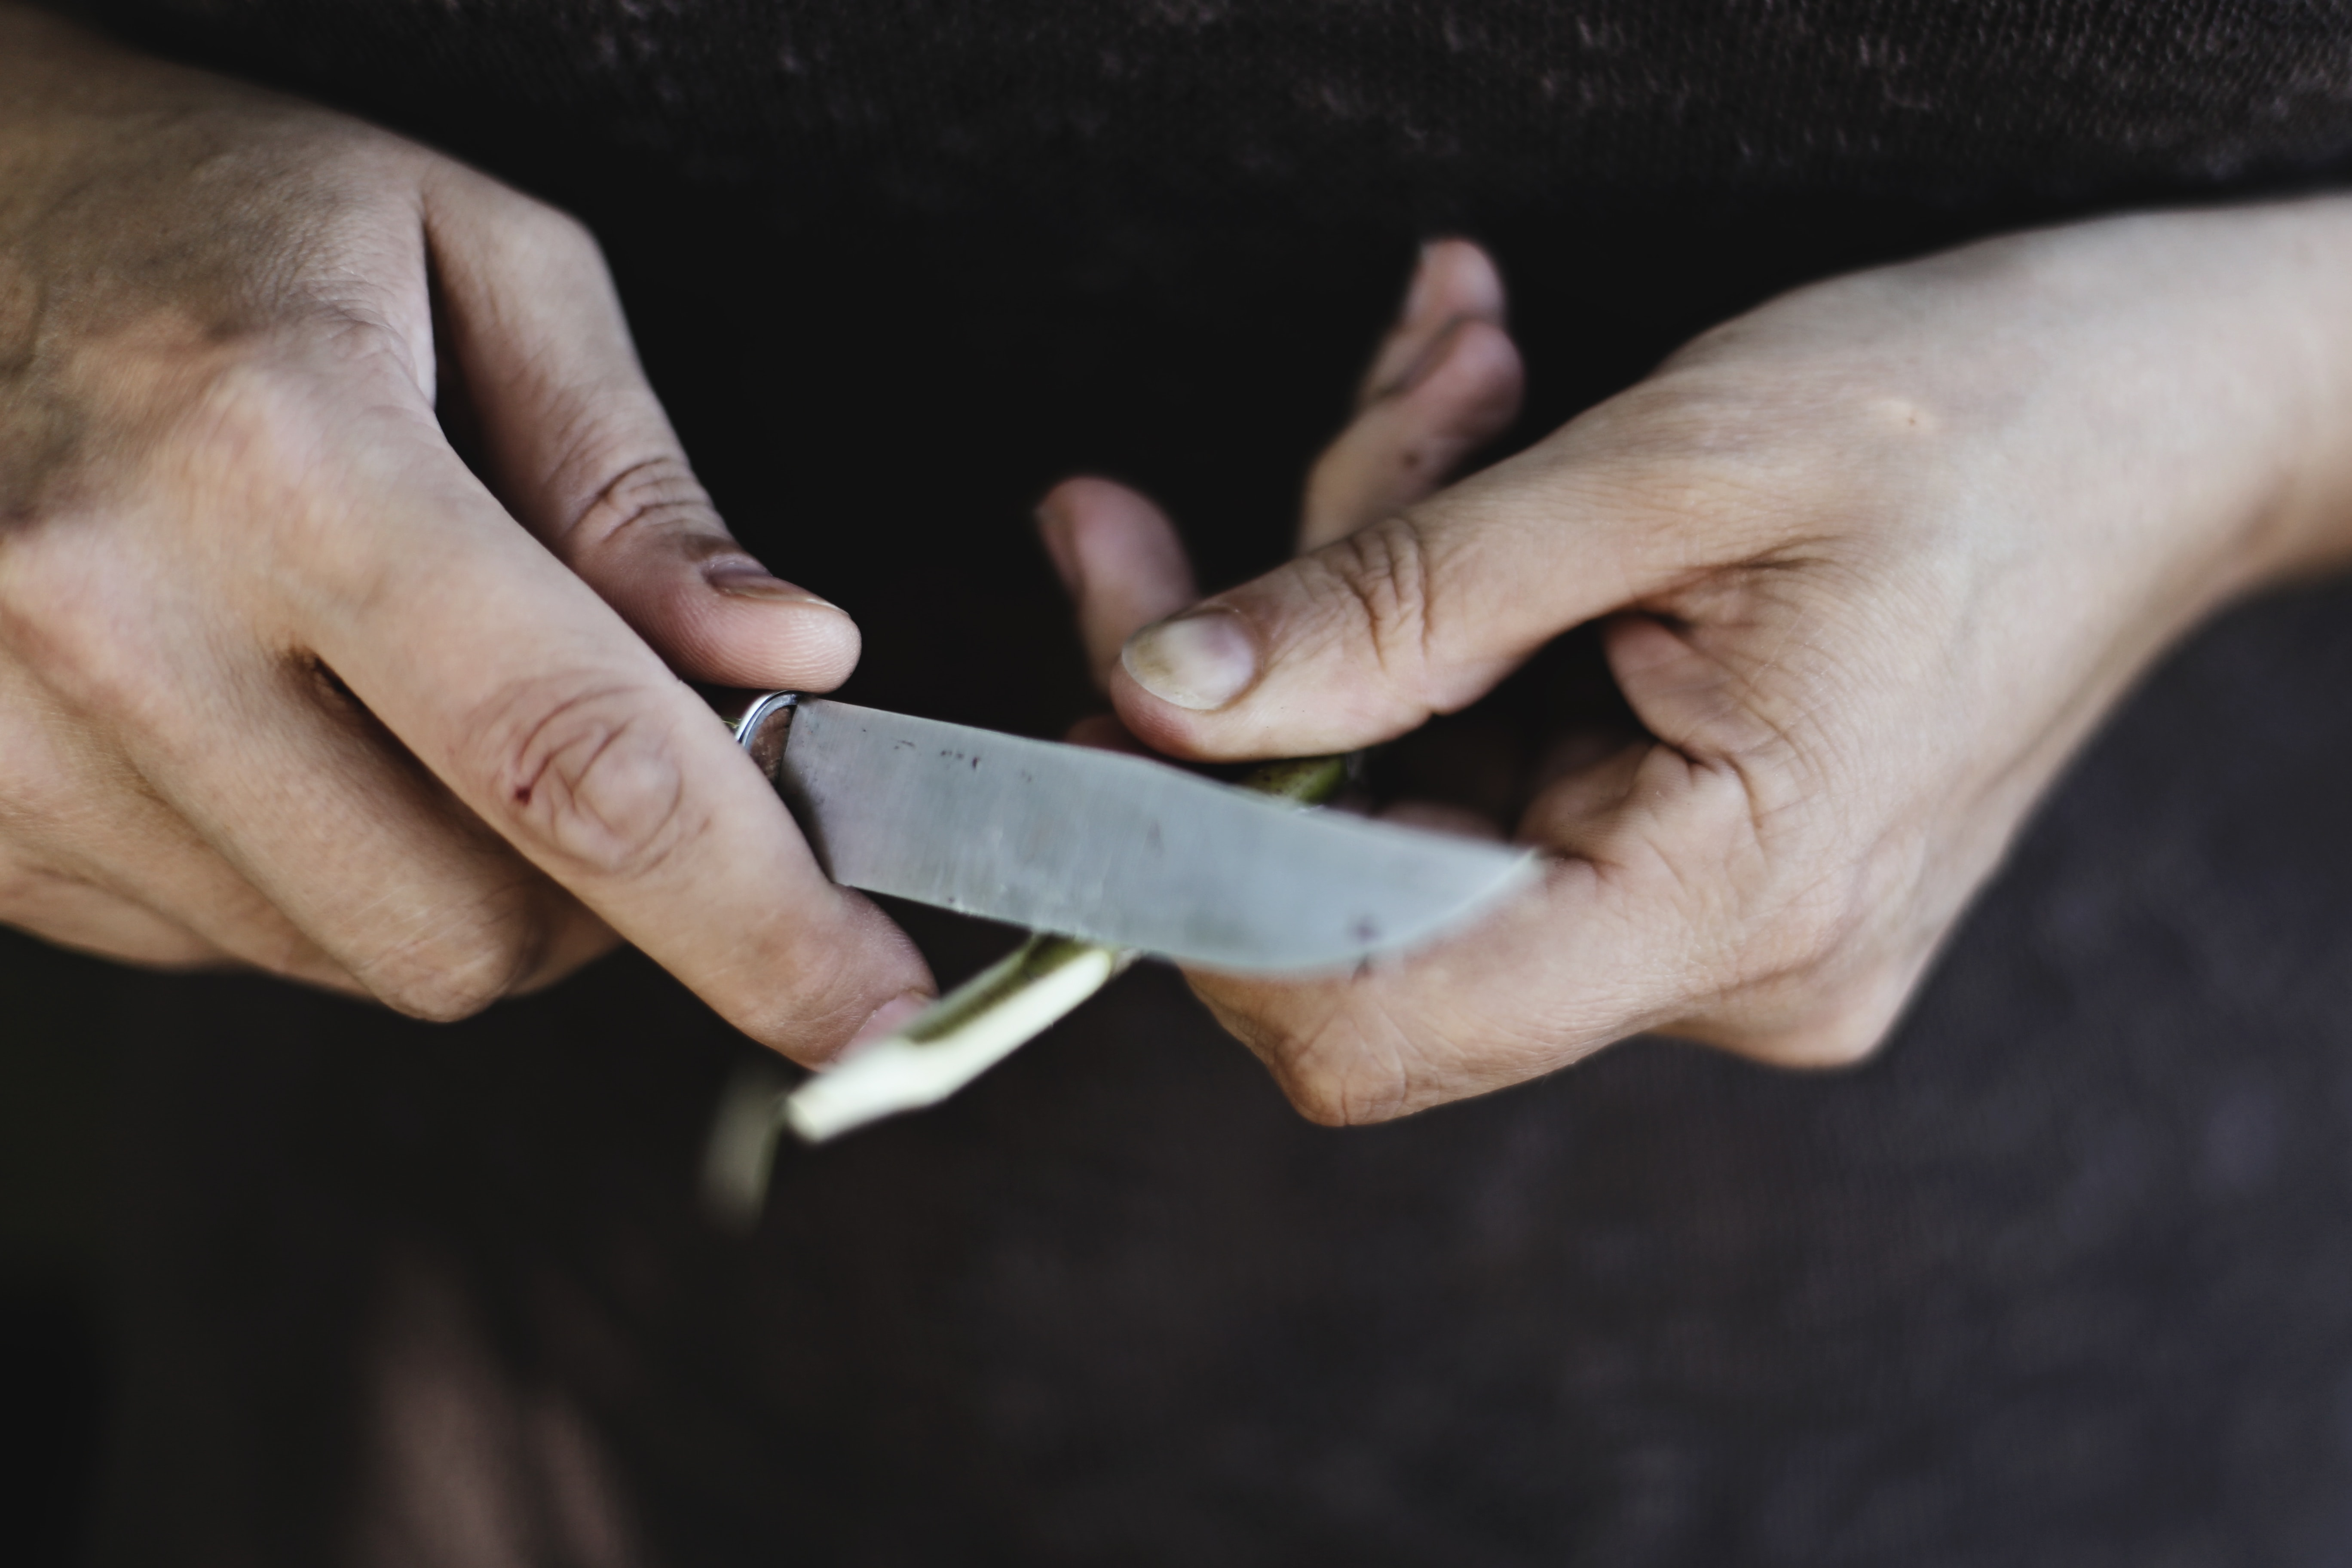knife: (558, 600, 1570, 983)
